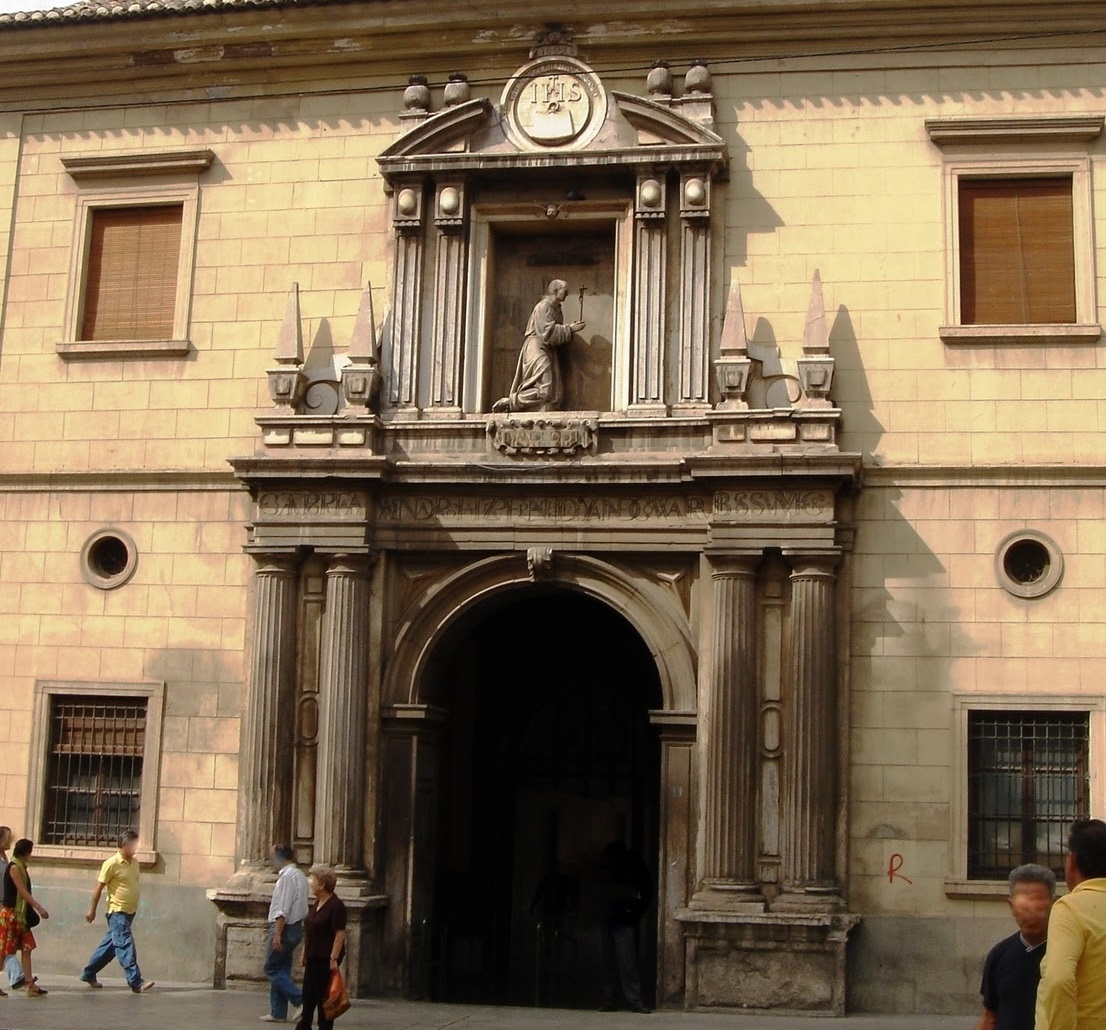arco-medio-punto: (382, 547, 699, 748)
fronton-partido: (375, 86, 727, 182)
ojo-de-buey: (1001, 531, 1071, 592), (81, 526, 139, 586)
vano-adintelado: (462, 193, 635, 411), (938, 138, 1097, 336), (948, 686, 1102, 886), (22, 676, 177, 851), (71, 172, 201, 341)
